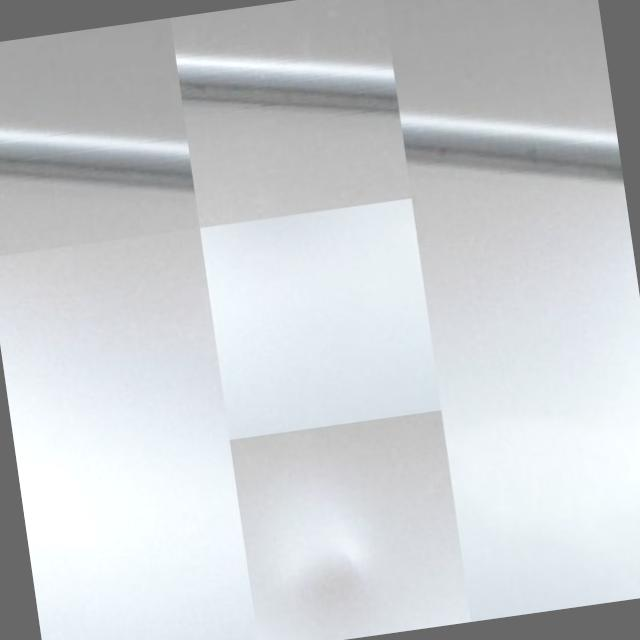dent: (294, 528, 394, 630)
